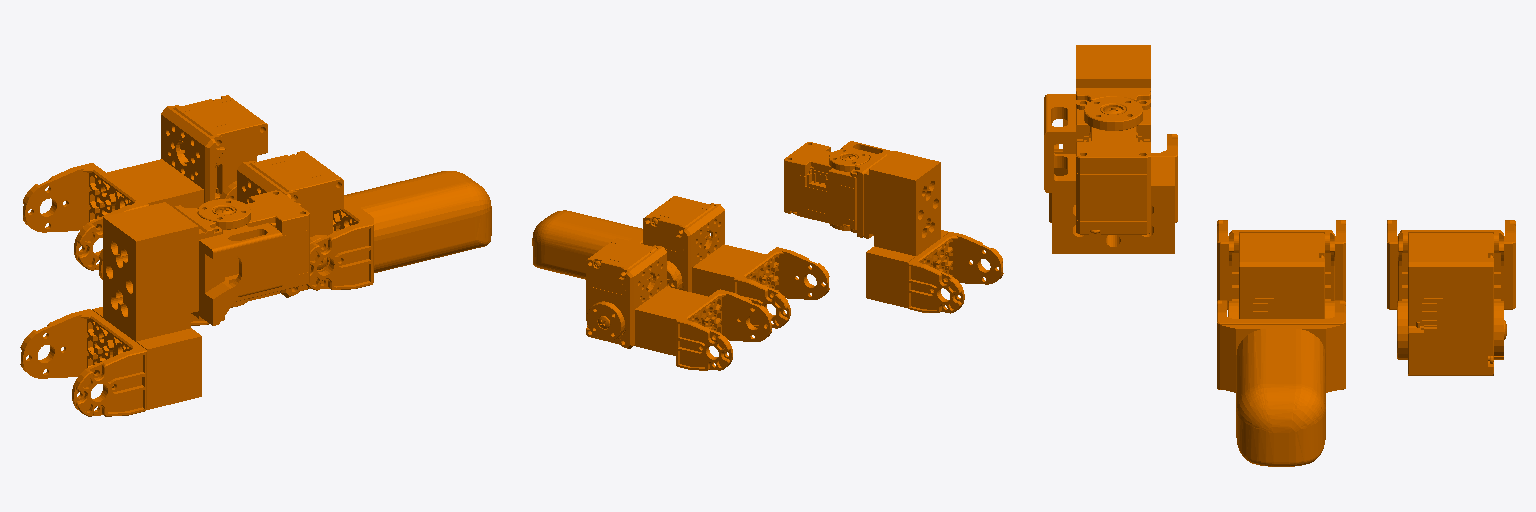
URDF robot description (onshape):
<robot name="onshape">
  <link name="palm_lower">
    <inertial>
      <origin xyz="0.0 0.0 0.0" rpy="0.0 -0.0 0.0"/>
      <mass value="0.237"/>
      <inertia ixx="0.000354094" ixy="-1.193e-06" ixz="-2.445e-06" iyy="0.000260915" iyz="-2.905e-06" izz="0.000529257"/>
    </inertial>
    <visual>
      <geometry>
        <mesh filename="../assets/leap/leap_hand/palm_lower.stl"/>
      </geometry>
      <origin xyz="-0.020095249652862544 0.025757756134899473 -0.034722403578460216" rpy="0.0 -0.0 0.0"/>
      <material name="palm_lower_material">
        <color rgba="0.6039215686274509 0.14901960784313725 0.14901960784313725 1.0"/>
      </material>
    </visual>
    <collision>
      <geometry>
        <mesh filename="../assets/leap/leap_hand/palm_lower.stl"/>
      </geometry>
      <origin xyz="-0.020095249652862544 0.025757756134899473 -0.034722403578460216" rpy="0.0 -0.0 0.0"/>
    </collision>
  </link>
  <link name="mcp_joint">
    <inertial>
      <origin xyz="0.0 0.0 0.0" rpy="0.0 -0.0 0.0"/>
      <mass value="0.044"/>
      <inertia ixx="1.1499e-05" ixy="3.049e-06" ixz="1.21e-07" iyy="7.796e-06" iyz="1.12e-07" izz="1.4759e-05"/>
    </inertial>
    <visual>
      <geometry>
        <mesh filename="../assets/leap/leap_hand/mcp_joint.stl"/>
      </geometry>
      <origin xyz="0.008406902261174496 0.0077662438597169954 0.014657354985032912" rpy="1.6375789613221e-15 -1.021047330249102e-30 1.7177968783327987e-31"/>
      <material name="mcp_joint_material">
        <color rgba="0.8666666666666667 0.8666666666666667 0.050980392156862744 1.0"/>
      </material>
    </visual>
    <collision>
      <geometry>
        <mesh filename="../assets/leap/leap_hand/mcp_joint.stl"/>
      </geometry>
      <origin xyz="0.008406902261174496 0.0077662438597169954 0.014657354985032912" rpy="1.6375789613221e-15 -1.021047330249102e-30 1.7177968783327987e-31"/>
    </collision>
  </link>
  <link name="pip">
    <inertial>
      <origin xyz="0.0 0.0 0.0" rpy="0.0 -0.0 0.0"/>
      <mass value="0.032"/>
      <inertia ixx="4.798e-06" ixy="1.2e-08" ixz="4e-09" iyy="2.862e-06" iyz="1.1e-08" izz="4.234e-06"/>
    </inertial>
    <visual>
      <geometry>
        <mesh filename="../assets/leap/leap_hand/pip.stl"/>
      </geometry>
      <origin xyz="0.009643363092271328 0.0002999999999999895 0.0007840340104173765" rpy="-1.5707963267948966 -1.5707963267948963 0.0"/>
      <material name="pip_material">
        <color rgba="0.7490196078431373 0.7490196078431373 0.7490196078431373 1.0"/>
      </material>
    </visual>
    <collision>
      <geometry>
        <mesh filename="../assets/leap/leap_hand/pip.stl"/>
      </geometry>
      <origin xyz="0.009643363092271328 0.0002999999999999895 0.0007840340104173765" rpy="-1.5707963267948966 -1.5707963267948963 0.0"/>
    </collision>
  </link>
  <link name="dip_long">
    <inertial>
      <origin xyz="0.0 0.0 0.0" rpy="0.0 -0.0 0.0"/>
      <mass value="0.037"/>
      <inertia ixx="5.542e-06" ixy="-6.07e-07" ixz="-1.7e-08" iyy="5.727e-06" iyz="-2.3e-08" izz="6.682e-06"/>
    </inertial>
    <visual>
      <geometry>
        <mesh filename="custom_models/dip_long.stl"/>
      </geometry>
      <origin xyz="0.021133352895225003 -0.00843211914670488 0.00978508816209524" rpy="-3.141592653589793 4.507511124216441e-32 4.439548105392361e-32"/>
      <material name="dip_material">
        <color rgba="0.878 0.467 0.0 1.0"/>
      </material>
    </visual>
    <collision>
      <geometry>
        <mesh filename="custom_models/dip_long.stl"/>
      </geometry>
      <origin xyz="0.021133352895225003 -0.00843211914670488 0.00978508816209524" rpy="-3.141592653589793 4.507511124216441e-32 4.439548105392361e-32"/>
    </collision>
  </link>
  <link name="fingertip">
    <inertial>
      <origin xyz="0.0 0.0 0.0" rpy="0.0 -0.0 0.0"/>
      <mass value="0.016"/>
      <inertia ixx="3.368e-06" ixy="1.15e-07" ixz="0.0" iyy="1.556e-06" iyz="0.0" izz="2.863e-06"/>
    </inertial>
    <visual>
      <geometry>
        <mesh filename="../assets/leap/leap_hand/fingertip.stl"/>
      </geometry>
      <origin xyz="0.013286424108533503 -0.006114238386541987 0.014499999999999498" rpy="3.141592653589793 1.1993117970061735e-33 4.439548105392361e-32"/>
      <material name="fingertip_material">
        <color rgba="0.8666666666666667 0.8666666666666667 0.050980392156862744 1.0"/>
      </material>
    </visual>
    <collision>
      <geometry>
        <mesh filename="../assets/leap/leap_hand/fingertip.stl"/>
      </geometry>
      <origin xyz="0.013286424108533503 -0.006114238386541987 0.014499999999999498" rpy="3.141592653589793 1.1993117970061735e-33 4.439548105392361e-32"/>
    </collision>
  </link>
  <link name="pip_4">
    <inertial>
      <origin xyz="0.0 0.0 0.0" rpy="0.0 -0.0 0.0"/>
      <mass value="0.032"/>
      <inertia ixx="4.798e-06" ixy="1.2e-08" ixz="4e-09" iyy="2.862e-06" iyz="1.1e-08" izz="4.234e-06"/>
    </inertial>
    <visual>
      <geometry>
        <mesh filename="../assets/leap/leap_hand/pip.stl"/>
      </geometry>
      <origin xyz="-0.005356636907728671 0.0002999999999999999 0.0007840340104173782" rpy="-1.5707963267948966 -1.5707963267948963 0.0"/>
      <material name="pip_material">
        <color rgba="0.7490196078431373 0.7490196078431373 0.7490196078431373 1.0"/>
      </material>
    </visual>
    <collision>
      <geometry>
        <mesh filename="../assets/leap/leap_hand/pip.stl"/>
      </geometry>
      <origin xyz="-0.005356636907728671 0.0002999999999999999 0.0007840340104173782" rpy="-1.5707963267948966 -1.5707963267948963 0.0"/>
    </collision>
  </link>
  <link name="thumb_pip">
    <inertial>
      <origin xyz="0.0 0.0 0.0" rpy="0.0 -0.0 0.0"/>
      <mass value="0.003"/>
      <inertia ixx="5.93e-07" ixy="0.0" ixz="0.0" iyy="5.49e-07" iyz="0.0" izz="2.24e-07"/>
    </inertial>
    <visual>
      <geometry>
        <mesh filename="../assets/leap/leap_hand/thumb_pip.stl"/>
      </geometry>
      <origin xyz="0.011961920770611187 -5.30825383648903e-16 -0.0158526489566642" rpy="1.5707963267948966 1.6050198443300153e-46 -3.9204996250525193e-59"/>
      <material name="thumb_pip_material">
        <color rgba="0.8666666666666667 0.8666666666666667 0.050980392156862744 1.0"/>
      </material>
    </visual>
    <collision>
      <geometry>
        <mesh filename="../assets/leap/leap_hand/thumb_pip.stl"/>
      </geometry>
      <origin xyz="0.011961920770611187 -5.30825383648903e-16 -0.0158526489566642" rpy="1.5707963267948966 1.6050198443300153e-46 -3.9204996250525193e-59"/>
    </collision>
  </link>
  <link name="thumb_dip">
    <inertial>
      <origin xyz="0.0 0.0 0.0" rpy="0.0 -0.0 0.0"/>
      <mass value="0.038"/>
      <inertia ixx="8.474e-06" ixy="2.41e-07" ixz="2.6e-08" iyy="3.841e-06" iyz="2.5e-08" izz="7.679e-06"/>
    </inertial>
    <visual>
      <geometry>
        <mesh filename="../assets/leap/leap_hand/thumb_dip.stl"/>
      </geometry>
      <origin xyz="0.043968715707239175 0.0579529529737092 -0.008628676449369476" rpy="1.94289029309401e-16 3.27515792264422e-15 1.112375852965736e-46"/>
      <material name="thumb_dip_material">
        <color rgba="0.8666666666666667 0.8666666666666667 0.050980392156862744 1.0"/>
      </material>
    </visual>
    <collision>
      <geometry>
        <mesh filename="../assets/leap/leap_hand/thumb_dip.stl"/>
      </geometry>
      <origin xyz="0.043968715707239175 0.0579529529737092 -0.008628676449369476" rpy="1.94289029309401e-16 3.27515792264422e-15 1.112375852965736e-46"/>
    </collision>
  </link>
  <link name="thumb_fingertip">
    <inertial>
      <origin xyz="0.0 0.0 0.0" rpy="0.0 -0.0 0.0"/>
      <mass value="0.049"/>
      <inertia ixx="2.0372e-05" ixy="-4.89e-07" ixz="-3e-08" iyy="4.336e-06" iyz="-9.7e-08" izz="1.9845e-05"/>
    </inertial>
    <visual>
      <geometry>
        <mesh filename="../assets/leap/leap_hand/thumb_fingertip.stl"/>
      </geometry>
      <origin xyz="0.06255953846266739 0.07845968291139699 0.048992911807332215" rpy="4.379057701015637e-47 -3.33066907387547e-16 1.2042408677791935e-46"/>
      <material name="thumb_fingertip_material">
        <color rgba="0.6039215686274509 0.14901960784313725 0.14901960784313725 1.0"/>
      </material>
    </visual>
    <collision>
      <geometry>
        <mesh filename="../assets/leap/leap_hand/thumb_fingertip.stl"/>
      </geometry>
      <origin xyz="0.06255953846266739 0.07845968291139699 0.048992911807332215" rpy="4.379057701015637e-47 -3.33066907387547e-16 1.2042408677791935e-46"/>
    </collision>
  </link>
  <link name="mcp_joint_2">
    <inertial>
      <origin xyz="0.0 0.0 0.0" rpy="0.0 -0.0 0.0"/>
      <mass value="0.044"/>
      <inertia ixx="1.1499e-05" ixy="3.049e-06" ixz="1.21e-07" iyy="7.796e-06" iyz="1.12e-07" izz="1.4759e-05"/>
    </inertial>
    <visual>
      <geometry>
        <mesh filename="../assets/leap/leap_hand/mcp_joint.stl"/>
      </geometry>
      <origin xyz="0.008406902261174496 0.0077662438597169954 0.014657354985032914" rpy="1.6375789613221e-15 -1.0076465469034e-30 2.1209300131419907e-61"/>
      <material name="mcp_joint_material">
        <color rgba="0.8666666666666667 0.8666666666666667 0.050980392156862744 1.0"/>
      </material>
    </visual>
    <collision>
      <geometry>
        <mesh filename="../assets/leap/leap_hand/mcp_joint.stl"/>
      </geometry>
      <origin xyz="0.008406902261174496 0.0077662438597169954 0.014657354985032914" rpy="1.6375789613221e-15 -1.0076465469034e-30 2.1209300131419907e-61"/>
    </collision>
  </link>
  <link name="pip_2">
    <inertial>
      <origin xyz="0.0 0.0 0.0" rpy="0.0 -0.0 0.0"/>
      <mass value="0.032"/>
      <inertia ixx="4.798e-06" ixy="1.2e-08" ixz="4e-09" iyy="2.862e-06" iyz="1.1e-08" izz="4.234e-06"/>
    </inertial>
    <visual>
      <geometry>
        <mesh filename="../assets/leap/leap_hand/pip.stl"/>
      </geometry>
      <origin xyz="0.009643363092271328 0.0002999999999999947 0.0007840340104173765" rpy="-1.5707963267948966 -1.5707963267948963 0.0"/>
      <material name="pip_material">
        <color rgba="0.7490196078431373 0.7490196078431373 0.7490196078431373 1.0"/>
      </material>
    </visual>
    <collision>
      <geometry>
        <mesh filename="../assets/leap/leap_hand/pip.stl"/>
      </geometry>
      <origin xyz="0.009643363092271328 0.0002999999999999947 0.0007840340104173765" rpy="-1.5707963267948966 -1.5707963267948963 0.0"/>
    </collision>
  </link>
  <link name="dip_2_long">
    <inertial>
      <origin xyz="0.0 0.0 0.0" rpy="0.0 -0.0 0.0"/>
      <mass value="0.037"/>
      <inertia ixx="5.542e-06" ixy="-6.07e-07" ixz="-1.7e-08" iyy="5.727e-06" iyz="-2.3e-08" izz="6.682e-06"/>
    </inertial>
    <visual>
      <geometry>
        <mesh filename="custom_models/dip_long.stl"/>
      </geometry>
      <origin xyz="0.021133352895225003 -0.008432119146704865 0.009785088162095237" rpy="-3.141592653589793 2.1146933785271956e-32 1.4408183216511869e-31"/>
      <material name="dip_material">
        <color rgba="0.878 0.467 0.0 1.0"/>
      </material>
    </visual>
    <collision>
      <geometry>
        <mesh filename="custom_models/dip_long.stl"/>
      </geometry>
      <origin xyz="0.021133352895225003 -0.008432119146704865 0.009785088162095237" rpy="-3.141592653589793 2.1146933785271956e-32 1.4408183216511869e-31"/>
    </collision>
  </link>
  <link name="fingertip_2_long">
    <inertial>
      <origin xyz="0.0 0.0 0.0" rpy="0.0 -0.0 0.0"/>
      <mass value="0.016"/>
      <inertia ixx="3.368e-06" ixy="1.15e-07" ixz="0.0" iyy="1.556e-06" iyz="0.0" izz="2.863e-06"/>
    </inertial>
    <visual>
      <geometry>
        <mesh filename="custom_models/fingertip_long.stl"/>
      </geometry>
      <origin xyz="0.013286424108533496 -0.006114238386542001 0.014499999999999496" rpy="3.141592653589793 -4.317959788283594e-33 1.4408183216511869e-31"/>
      <material name="fingertip_material">
        <color rgba="0.878 0.467 0.0 1.0"/>
      </material>
    </visual>
    <collision>
      <geometry>
        <mesh filename="custom_models/fingertip_long.stl"/>
      </geometry>
      <origin xyz="0.013286424108533496 -0.006114238386542001 0.014499999999999496" rpy="3.141592653589793 -4.317959788283594e-33 1.4408183216511869e-31"/>
    </collision>
  </link>
  <link name="mcp_joint_3_long">
    <inertial>
      <origin xyz="0.0 0.0 0.0" rpy="0.0 -0.0 0.0"/>
      <mass value="0.044"/>
      <inertia ixx="1.1499e-05" ixy="3.049e-06" ixz="1.21e-07" iyy="7.796e-06" iyz="1.12e-07" izz="1.4759e-05"/>
    </inertial>
    <visual>
      <geometry>
        <mesh filename="custom_models/mcp_joint_long.stl"/>
      </geometry>
      <origin xyz="0.0084069022611745 0.007766243859716996 0.014657354985032914" rpy="1.6375789613221e-15 -1.0059504988632627e-30 5.729641584552035e-32"/>
      <material name="mcp_joint_material">
        <color rgba="0.878 0.467 0.0 1.0"/>
      </material>
    </visual>
    <collision>
      <geometry>
        <mesh filename="custom_models/mcp_joint_long.stl"/>
      </geometry>
      <origin xyz="0.0084069022611745 0.007766243859716996 0.014657354985032914" rpy="1.6375789613221e-15 -1.0059504988632627e-30 5.729641584552035e-32"/>
    </collision>
  </link>
  <link name="pip_3">
    <inertial>
      <origin xyz="0.0 0.0 0.0" rpy="0.0 -0.0 0.0"/>
      <mass value="0.032"/>
      <inertia ixx="4.798e-06" ixy="1.2e-08" ixz="4e-09" iyy="2.862e-06" iyz="1.1e-08" izz="4.234e-06"/>
    </inertial>
    <visual>
      <geometry>
        <mesh filename="../assets/leap/leap_hand/pip.stl"/>
      </geometry>
      <origin xyz="0.009643363092271331 0.00029999999999998084 0.0007840340104173765" rpy="-1.5707963267948966 -1.5707963267948963 0.0"/>
      <material name="pip_material">
        <color rgba="0.7490196078431373 0.7490196078431373 0.7490196078431373 1.0"/>
      </material>
    </visual>
    <collision>
      <geometry>
        <mesh filename="../assets/leap/leap_hand/pip.stl"/>
      </geometry>
      <origin xyz="0.009643363092271331 0.00029999999999998084 0.0007840340104173765" rpy="-1.5707963267948966 -1.5707963267948963 0.0"/>
    </collision>
  </link>
  <link name="dip_3">
    <inertial>
      <origin xyz="0.0 0.0 0.0" rpy="0.0 -0.0 0.0"/>
      <mass value="0.037"/>
      <inertia ixx="5.542e-06" ixy="-6.07e-07" ixz="-1.7e-08" iyy="5.727e-06" iyz="-2.3e-08" izz="6.682e-06"/>
    </inertial>
    <visual>
      <geometry>
        <mesh filename="../assets/leap/leap_hand/dip.stl"/>
      </geometry>
      <origin xyz="0.021133352895225006 -0.008432119146704865 0.009785088162095237" rpy="-3.141592653589793 -1.4095651113919093e-33 1.5565411607615035e-32"/>
      <material name="dip_material">
        <color rgba="0.8666666666666667 0.8666666666666667 0.050980392156862744 1.0"/>
      </material>
    </visual>
    <collision>
      <geometry>
        <mesh filename="../assets/leap/leap_hand/dip.stl"/>
      </geometry>
      <origin xyz="0.021133352895225006 -0.008432119146704865 0.009785088162095237" rpy="-3.141592653589793 -1.4095651113919093e-33 1.5565411607615035e-32"/>
    </collision>
  </link>
  <link name="fingertip_3">
    <inertial>
      <origin xyz="0.0 0.0 0.0" rpy="0.0 -0.0 0.0"/>
      <mass value="0.016"/>
      <inertia ixx="3.368e-06" ixy="1.15e-07" ixz="0.0" iyy="1.556e-06" iyz="0.0" izz="2.863e-06"/>
    </inertial>
    <visual>
      <geometry>
        <mesh filename="../assets/leap/leap_hand/fingertip.stl"/>
      </geometry>
      <origin xyz="0.013286424108533501 -0.006114238386541987 0.0144999999999995" rpy="3.141592653589793 8.61707169505754e-33 1.5565411607615035e-32"/>
      <material name="fingertip_material">
        <color rgba="0.8666666666666667 0.8666666666666667 0.050980392156862744 1.0"/>
      </material>
    </visual>
    <collision>
      <geometry>
        <mesh filename="../assets/leap/leap_hand/fingertip.stl"/>
      </geometry>
      <origin xyz="0.013286424108533501 -0.006114238386541987 0.0144999999999995" rpy="3.141592653589793 8.61707169505754e-33 1.5565411607615035e-32"/>
    </collision>
  </link>
  <joint name="1" type="revolute">
    <parent link="palm_lower"/>
    <child link="mcp_joint"/>
    <origin xyz="-0.007095249652862546 0.023057756134899472 -0.01872240357846022" rpy="1.570796326794895 1.5707963267948946 0.0"/>
    <axis xyz="0.0 0.0 -1.0"/>
    <limit effort="0.95" velocity="8.48" lower="-0.314" upper="2.23"/>
  </joint>
  <joint name="0" type="revolute">
    <parent link="mcp_joint"/>
    <child link="pip"/>
    <origin xyz="-0.012200000000000008 0.038099999999999995 0.0145" rpy="-1.5707963267948966 -1.0065212660796337e-15 1.5707963267948943"/>
    <axis xyz="0.0 0.0 -1.0"/>
    <limit effort="0.95" velocity="8.48" lower="-1.047" upper="1.047"/>
  </joint>
  <joint name="2" type="revolute">
    <parent link="pip"/>
    <child link="dip_long"/>
    <origin xyz="0.014999999999999968 0.014299999999999905 -0.012999999999999824" rpy="1.570796326794896 -1.5707963267948963 0.0"/>
    <axis xyz="0.0 0.0 -1.0"/>
    <limit effort="0.95" velocity="8.48" lower="-0.506" upper="1.885"/>
  </joint>
  <joint name="3" type="revolute">
    <parent link="dip_long"/>
    <child link="fingertip"/>
    <origin xyz="-4.0880582495572692636e-09 -0.051100004210367367397 0.00020000000000007858714" rpy="4.5935029425113685e-17 -2.8730071914463795e-16 4.439548105392361e-32"/>
    <axis xyz="0.0 0.0 -1.0"/>
    <limit effort="0.95" velocity="8.48" lower="-0.366" upper="2.042"/>
  </joint>
  <joint name="12" type="revolute">
    <parent link="palm_lower"/>
    <child link="pip_4"/>
    <origin xyz="-0.06939524965286253 -0.0012422438651005258 -0.021622403578460216" rpy="-8.238176646493942e-17 1.5707963267948957 0.0"/>
    <axis xyz="0.0 0.0 -1.0"/>
    <limit effort="0.95" velocity="8.48" lower="-0.349" upper="2.094"/>
  </joint>
  <joint name="13" type="revolute">
    <parent link="pip_4"/>
    <child link="thumb_pip"/>
    <origin xyz="-2.7755575615628914e-17 0.014300000000000005 -0.013000000000000012" rpy="1.570796326794896 -1.5707963267948963 0.0"/>
    <axis xyz="0.0 0.0 -1.0"/>
    <limit effort="0.95" velocity="8.48" lower="-0.47" upper="2.443"/>
  </joint>
  <joint name="14" type="revolute">
    <parent link="thumb_pip"/>
    <child link="thumb_dip"/>
    <origin xyz="0.0 0.014499999999999966 -0.017000000000000053" rpy="-1.5707963267948966 1.6050198443300131e-46 -1.9721522630516625e-31"/>
    <axis xyz="0.0 0.0 -1.0"/>
    <limit effort="0.95" velocity="8.48" lower="-1.2" upper="1.9"/>
  </joint>
  <joint name="15" type="revolute">
    <parent link="thumb_dip"/>
    <child link="thumb_fingertip"/>
    <origin xyz="-1.249000902703301e-16 0.046599999999999864 0.0001999999999999771" rpy="1.506395849149178e-44 5.423418723393526e-31 3.141592653589793"/>
    <axis xyz="0.0 0.0 -1.0"/>
    <limit effort="0.95" velocity="8.48" lower="-1.34" upper="1.88"/>
  </joint>
  <joint name="5" type="revolute">
    <parent link="palm_lower"/>
    <child link="mcp_joint_2"/>
    <origin xyz="-0.007095249652862546 -0.022392243865100525 -0.01872240357846022" rpy="1.570796326794895 1.5707963267948946 0.0"/>
    <axis xyz="0.0 0.0 -1.0"/>
    <limit effort="0.95" velocity="8.48" lower="-0.314" upper="2.23"/>
  </joint>
  <joint name="4" type="revolute">
    <parent link="mcp_joint_2"/>
    <child link="pip_2"/>
    <origin xyz="-0.012200000000000008 0.038099999999999995 0.0145" rpy="-1.5707963267948966 -1.0065212660796337e-15 1.5707963267948943"/>
    <axis xyz="0.0 0.0 -1.0"/>
    <limit effort="0.95" velocity="8.48" lower="-1.047" upper="1.047"/>
  </joint>
  <joint name="6" type="revolute">
    <parent link="pip_2"/>
    <child link="dip_2_long"/>
    <origin xyz="0.014999999999999968 0.014299999999999905 -0.012999999999999824" rpy="1.570796326794896 -1.5707963267948963 0.0"/>
    <axis xyz="0.0 0.0 -1.0"/>
    <limit effort="0.95" velocity="8.48" lower="-0.506" upper="1.885"/>
  </joint>
  <joint name="7" type="revolute">
    <parent link="dip_2_long"/>
    <child link="fingertip_2_long"/>
    <origin xyz="-4.0880582495572692636e-09 -0.051100004210367367397 0.00020000000000007858714" rpy="4.5935029425113685e-17 -2.8730071914463795e-16 4.439548105392361e-32"/>
    <axis xyz="0.0 0.0 -1.0"/>
    <limit effort="0.95" velocity="8.48" lower="-0.366" upper="2.042"/>
  </joint>
  <joint name="9" type="revolute">
    <parent link="palm_lower"/>
    <child link="mcp_joint_3_long"/>
    <origin xyz="-0.007095249652862546 -0.06784224386510052 -0.01872240357846022" rpy="1.570796326794895 1.5707963267948946 0.0"/>
    <axis xyz="0.0 0.0 -1.0"/>
    <limit effort="0.95" velocity="8.48" lower="-0.314" upper="2.23"/>
  </joint>
  <joint name="8" type="revolute">
    <parent link="mcp_joint_3_long"/>
    <child link="pip_3"/>
    <origin xyz="-0.012200000000000007713 0.053099999999999994982 0.014500000000000000736" rpy="-1.5707963267948966 -1.0065212660796337e-15 1.5707963267948943"/>
    <axis xyz="0.0 0.0 -1.0"/>
    <limit effort="0.95" velocity="8.48" lower="-1.047" upper="1.047"/>
  </joint>
  <joint name="10" type="revolute">
    <parent link="pip_3"/>
    <child link="dip_3"/>
    <origin xyz="0.014999999999999968 0.014299999999999905 -0.012999999999999824" rpy="1.570796326794896 -1.5707963267948963 0.0"/>
    <axis xyz="0.0 0.0 -1.0"/>
    <limit effort="0.95" velocity="8.48" lower="-0.506" upper="1.885"/>
  </joint>
  <joint name="11" type="revolute">
    <parent link="dip_3"/>
    <child link="fingertip_3"/>
    <origin xyz="-4.088058249557269e-09 -0.03610000421036737 0.0002000000000000786" rpy="4.5935029425113685e-17 -2.8730071914463795e-16 4.439548105392361e-32"/>
    <axis xyz="0.0 0.0 -1.0"/>
    <limit effort="0.95" velocity="8.48" lower="-0.366" upper="2.042"/>
  </joint>
</robot>

--- What the picture shows (computed from the rendered views, not written in the file) ---
The picture shows the robot from 3 angles, left to right: view 1: azimuth 30°, elevation 25°; view 2: azimuth 150°, elevation 25°; view 3: azimuth 270°, elevation 25°; orthographic projection.
Model onshape with 17 links and 16 joints (16 revolute), rooted at palm_lower, posed all joints at 0.
Links seen in each view (by area): view 1: mcp_joint_3_long, dip_long, fingertip_2_long, dip_2_long; view 2: mcp_joint_3_long, dip_long, dip_2_long, fingertip_2_long; view 3: mcp_joint_3_long, dip_long, fingertip_2_long, dip_2_long.
Link boxes in pixels (x1,y1,x2,y2): mcp_joint_3_long: [20, 190, 309, 416]; dip_long: [23, 95, 267, 270]; fingertip_2_long: [307, 171, 491, 290]; dip_2_long: [99, 151, 343, 325]; mcp_joint_3_long: [784, 141, 1003, 313]; dip_long: [586, 238, 771, 370]; dip_2_long: [643, 196, 829, 328]; fingertip_2_long: [532, 210, 678, 288]; mcp_joint_3_long: [1044, 45, 1177, 253]; dip_long: [1387, 220, 1515, 375]; fingertip_2_long: [1217, 300, 1345, 466]; dip_2_long: [1217, 220, 1345, 318].
Size in the robot's own frame: 0.1766 by 0.1265 by 0.0549 metres.
4 mesh visuals loaded from 11 distinct referenced files (3 binary STL); not drawn: 13 (reference not matched to a file when rendering).